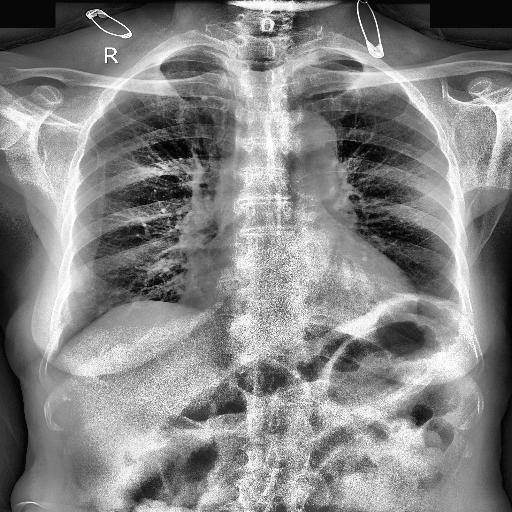0- Aortic enlargement: (278, 110, 338, 174), (274, 110, 338, 161), (282, 110, 336, 166)
10- Pleural effusion: (446, 296, 474, 333)
11- Pleural thickening: (446, 296, 474, 333)
3- Cardiomegaly: (188, 251, 420, 317)
9- Other lesion: (312, 287, 463, 347), (446, 296, 474, 333)
